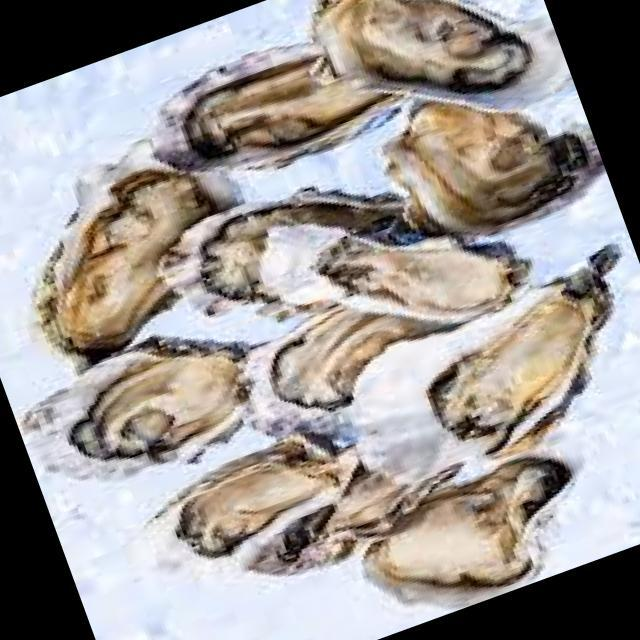Oyster-Open: (0, 108, 246, 381), (357, 423, 602, 640), (8, 318, 267, 495), (147, 166, 426, 329), (144, 35, 398, 179), (223, 285, 419, 451), (255, 220, 530, 331), (159, 414, 349, 569), (314, 0, 570, 106), (383, 101, 588, 233)
